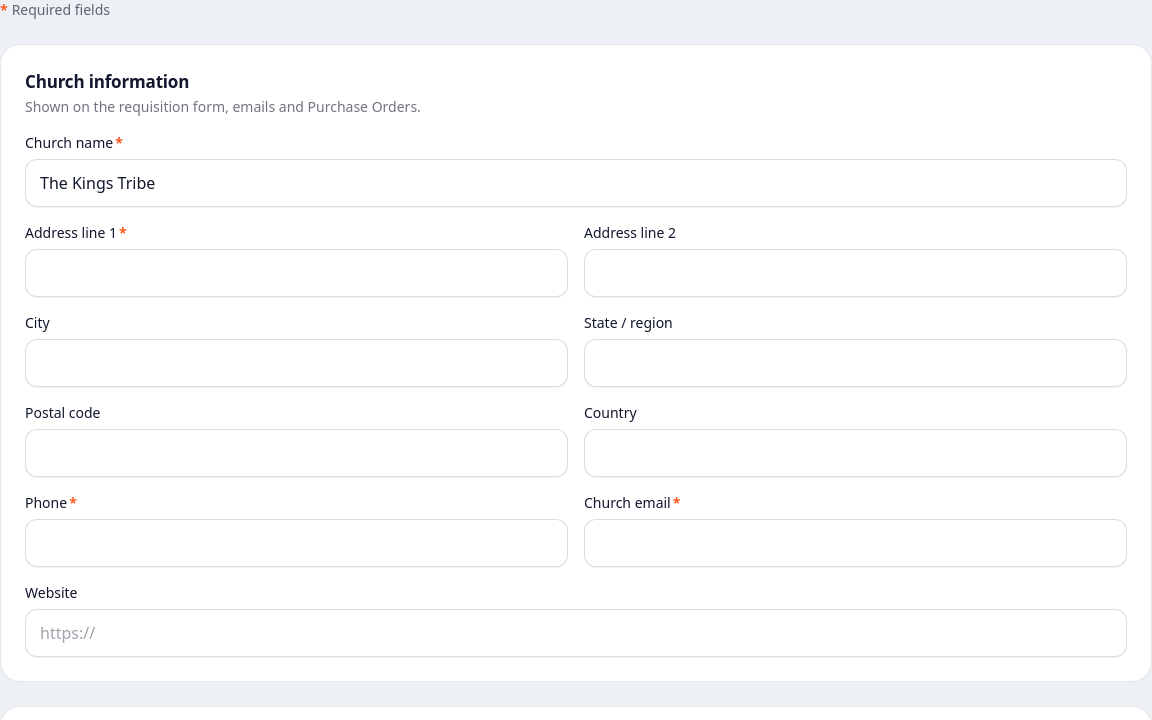
Test case: Step 1 form › on success: saves only this step, toasts, and refreshes so the sidebar checkmark updates
The width and height of the screenshot is (1152, 720).
Type "100 Example Avenue" into the field labelled "Address line 1*" at (296, 272), box [25,248,568,296]
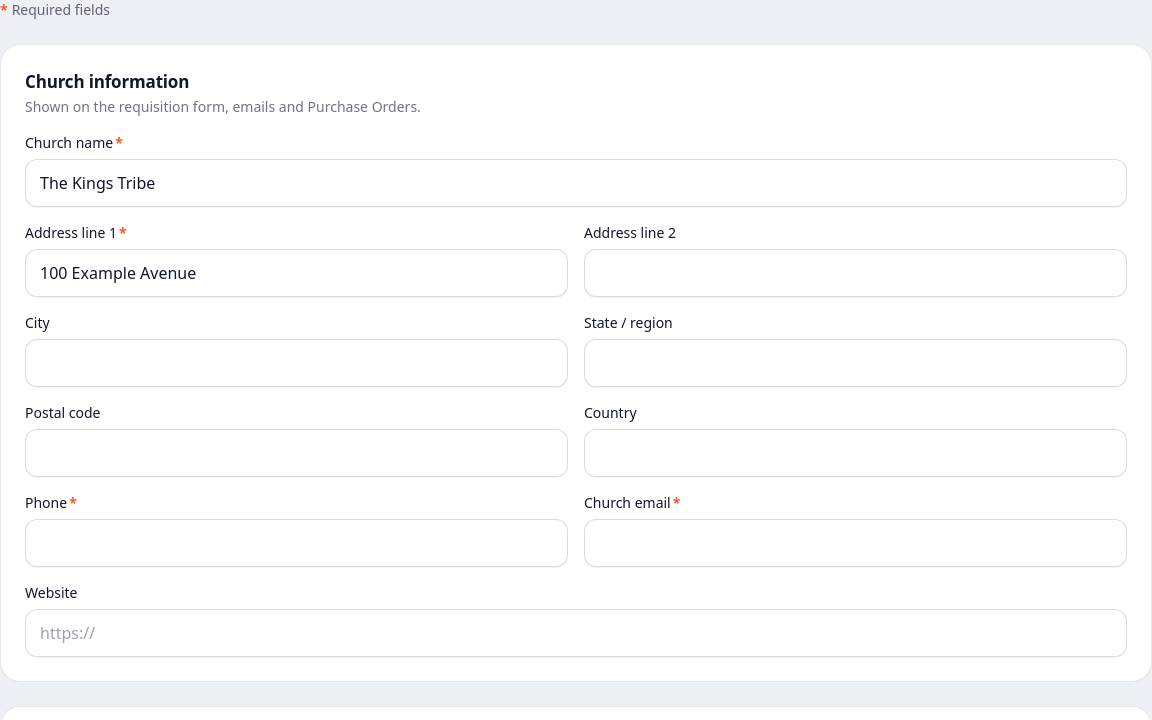
Type "(555) 010-0000" into the field labelled "Phone*" at (296, 542), box [25,518,568,566]
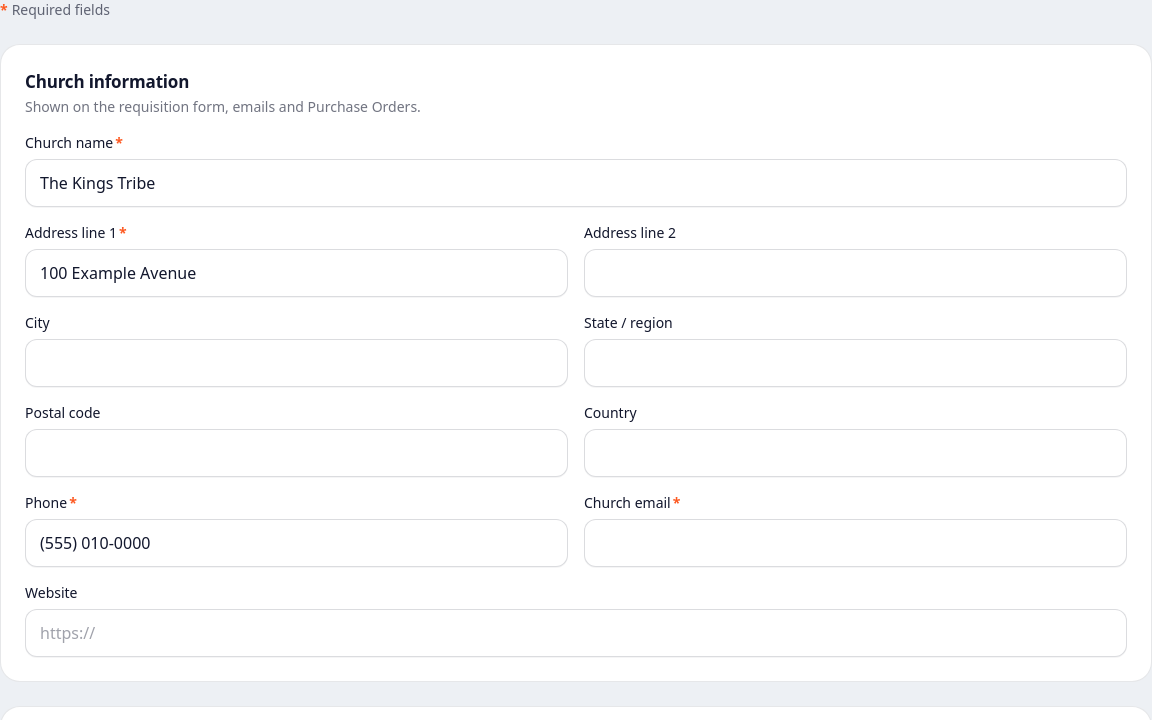
Type "office@example.org" into the field labelled "Church email*" at (856, 542), box [584,518,1127,566]
(page scrolled)
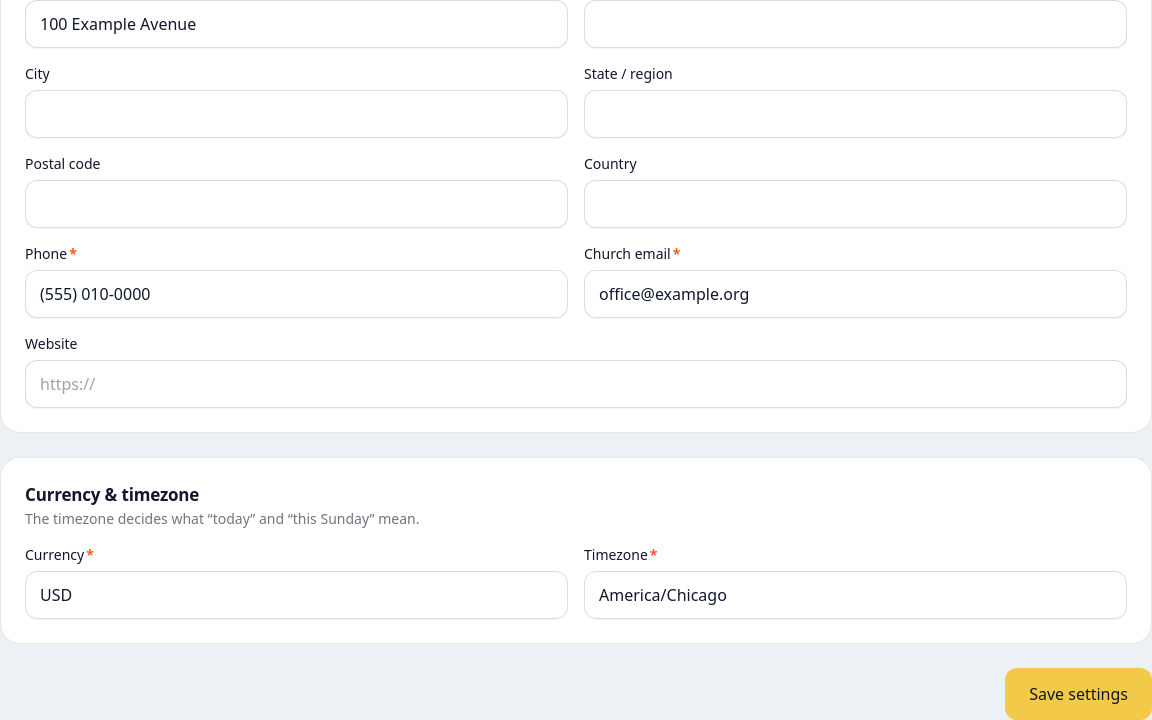
Click the button "Save settings" at (1079, 694), box [1005,668,1151,719]
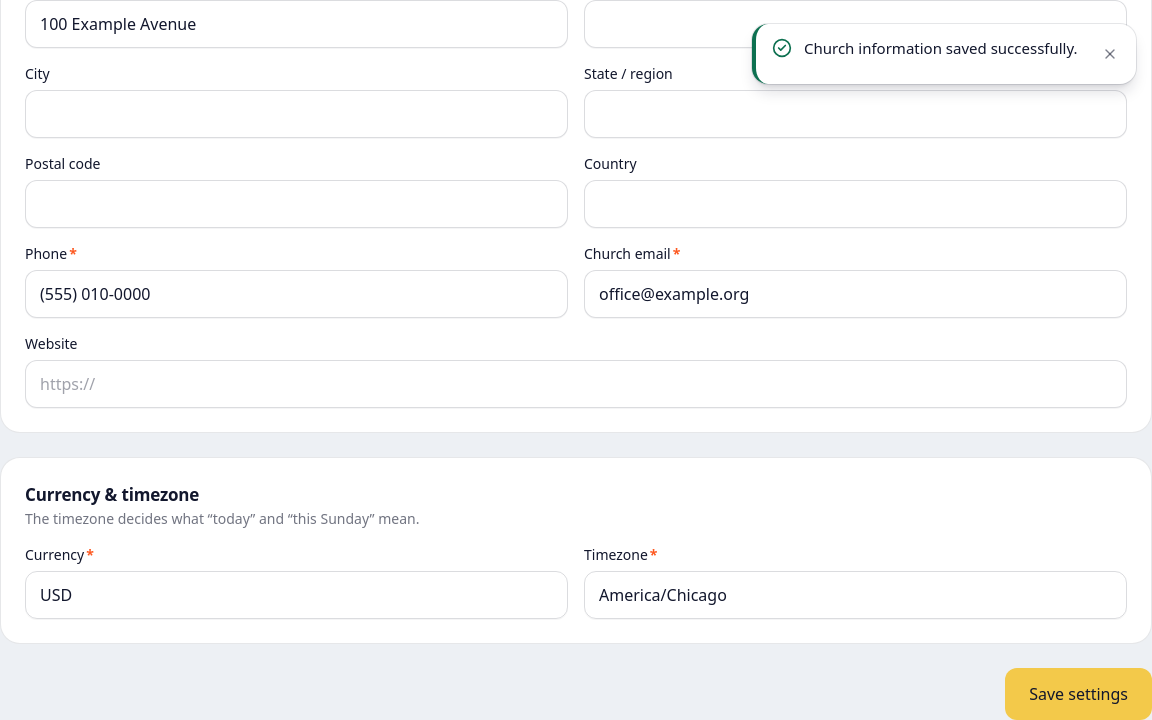
Result: the text "Church information saved successfully." is shown at [804,36,1080,61]
